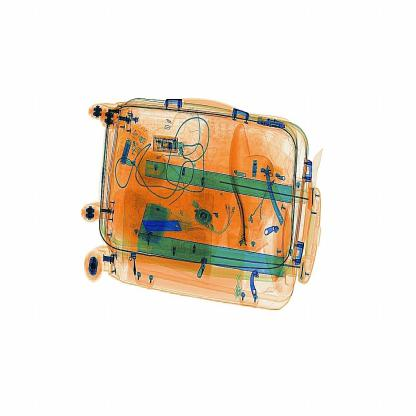pliers: (142, 212, 190, 242)
